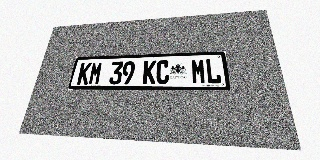3: (109, 61, 123, 84)
9: (121, 61, 136, 84)
C: (156, 60, 169, 84)
K: (76, 62, 92, 85), (142, 60, 156, 84)
L: (205, 58, 222, 84)
M: (191, 59, 206, 84), (88, 62, 103, 85)
